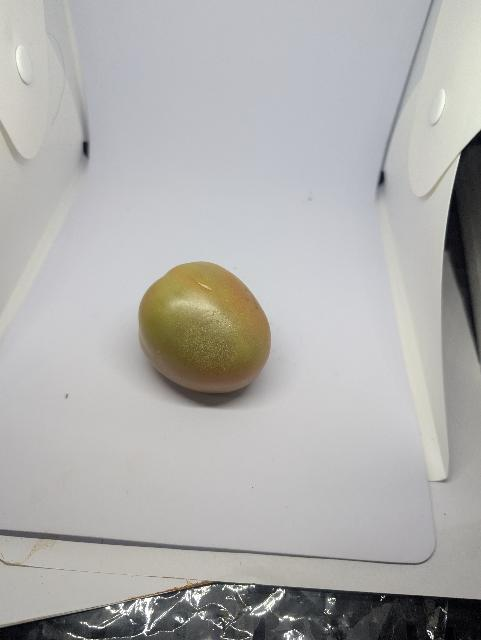breaker: (134, 258, 275, 394)
